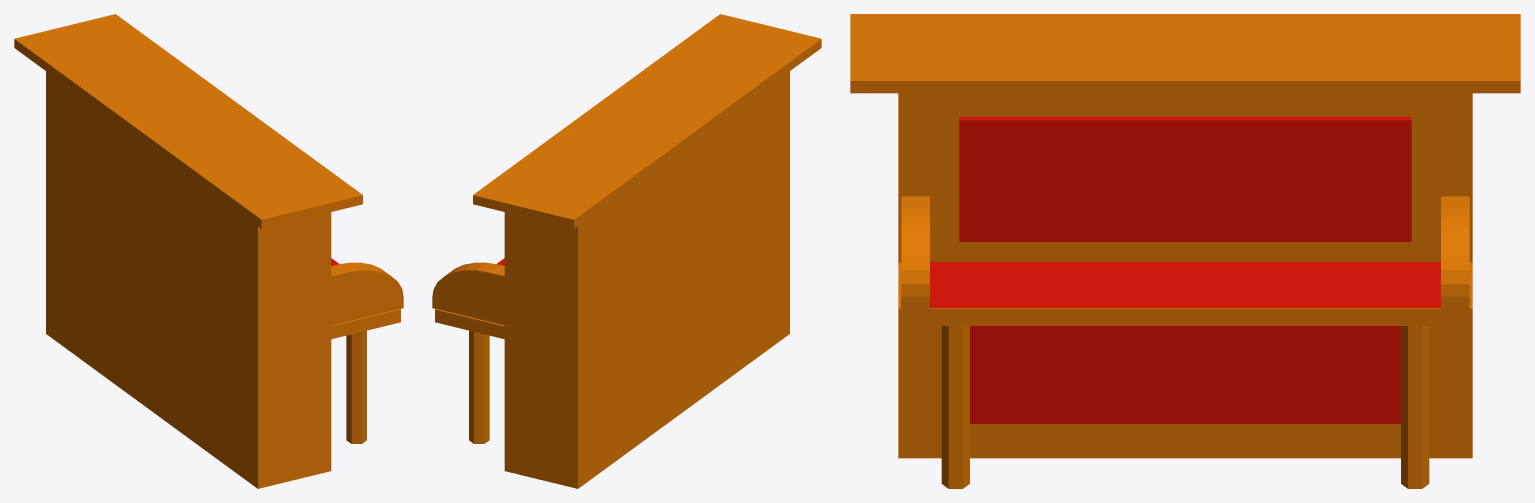
The model's file is Piano.fbx.
3 renders of one model, left to right at view 1: azimuth 30°, elevation 25°; view 2: azimuth 150°, elevation 25°; view 3: azimuth 270°, elevation 25°, orthographic. The views are drawn at different scales.
Parts seen in each view (by area): view 1: PianoBody; view 2: PianoBody; view 3: PianoBody.
Boxes of the visible parts, x1,y1,x2,y2 form: PianoBody: (14,14,403,488); PianoBody: (432,14,821,488); PianoBody: (850,14,1520,488).
Size of the model in its own units: 438 by 743 by 1167.
